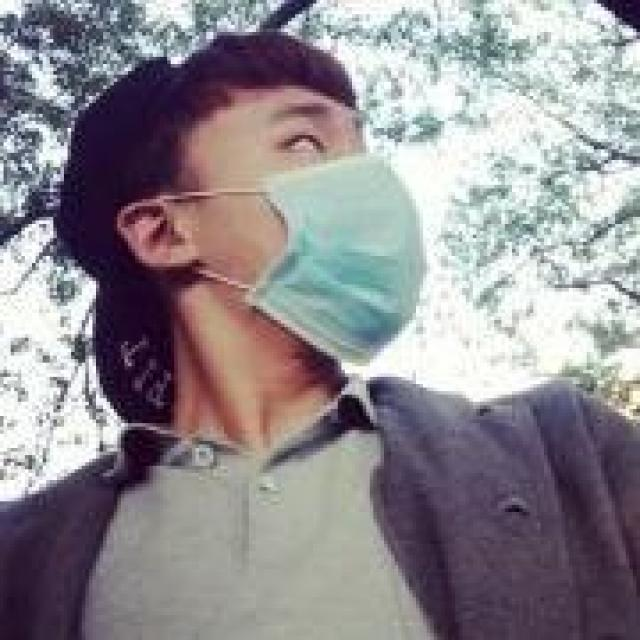mask: (187, 85, 375, 348)
